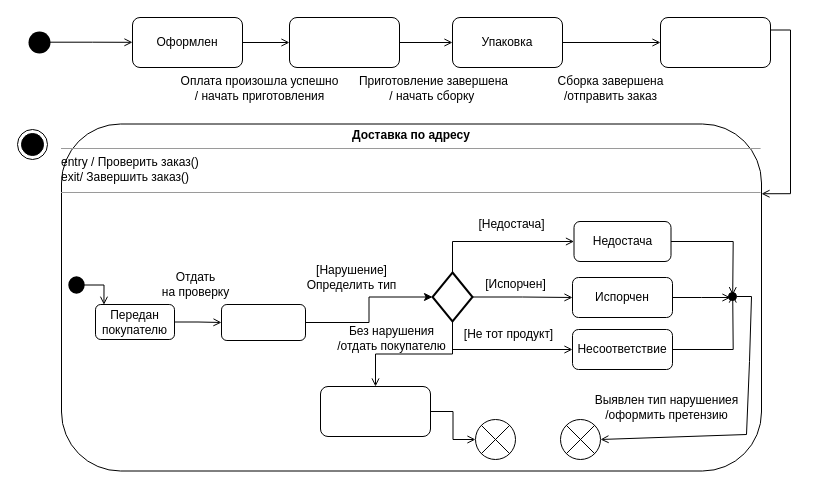
Image size: 816x489. Some labels were removed from this diagram. Each missing label, with the box of its shape:
В процессе приготовления: (288, 16, 400, 68)
В пути: (660, 16, 770, 68)
На проверке: (220, 304, 306, 340)
Принять: (320, 386, 430, 436)
